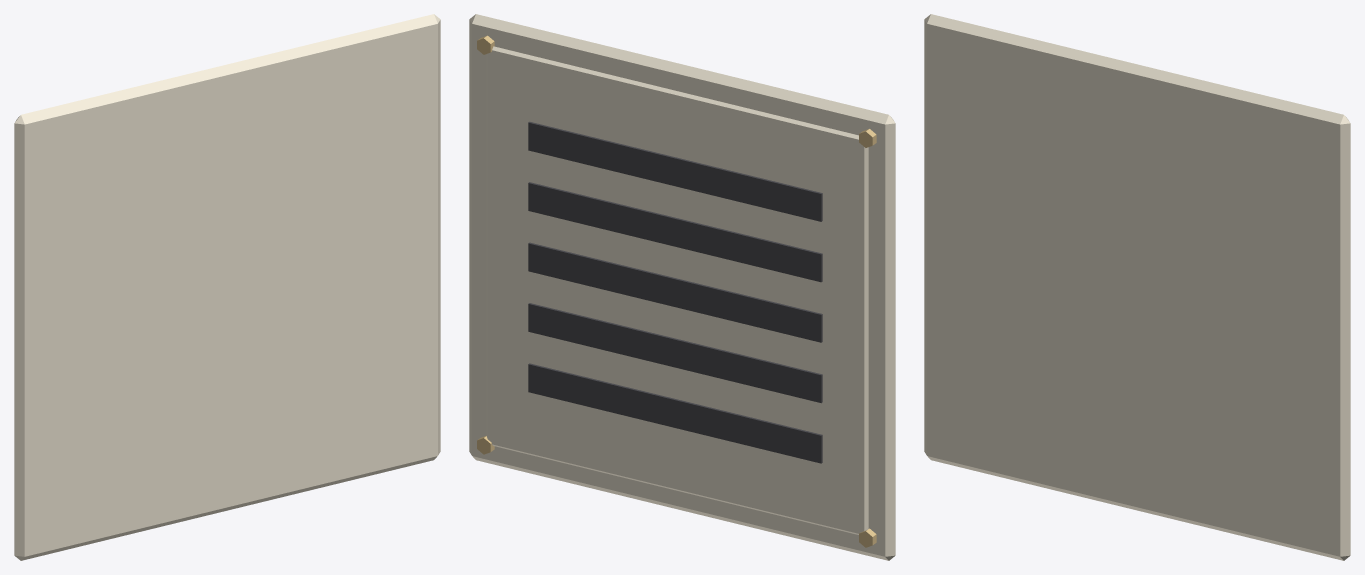
The model's file is Fill_Vent.fbx.
The picture shows the model from 3 angles, left to right: view 1: azimuth 30°, elevation 25°; view 2: azimuth 150°, elevation 25°; view 3: azimuth 330°, elevation 25°; orthographic projection.
Visible parts, largest first — view 1: Fill_Vent; view 2: Fill_Vent; view 3: Fill_Vent.
Boxes of the visible parts, left/top/right/bottom form: Fill_Vent: left=14, top=14, right=440, bottom=560; Fill_Vent: left=469, top=14, right=895, bottom=560; Fill_Vent: left=924, top=14, right=1350, bottom=560.
Size of the model in its own units: 0.96 by 0.96 by 0.045.
